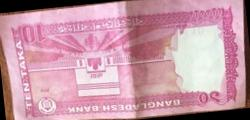10 taka: (1, 10, 245, 107)
